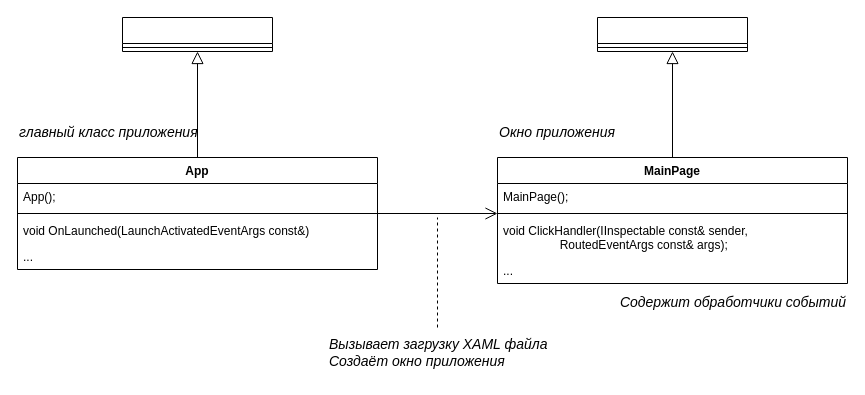
This 865x395 diagram has some shape labels left out. Here are the shapes that lost their labels. From the top down, the centre of each, then its label:
the point at 197,34: AppT
the point at 672,34: MainPageT
